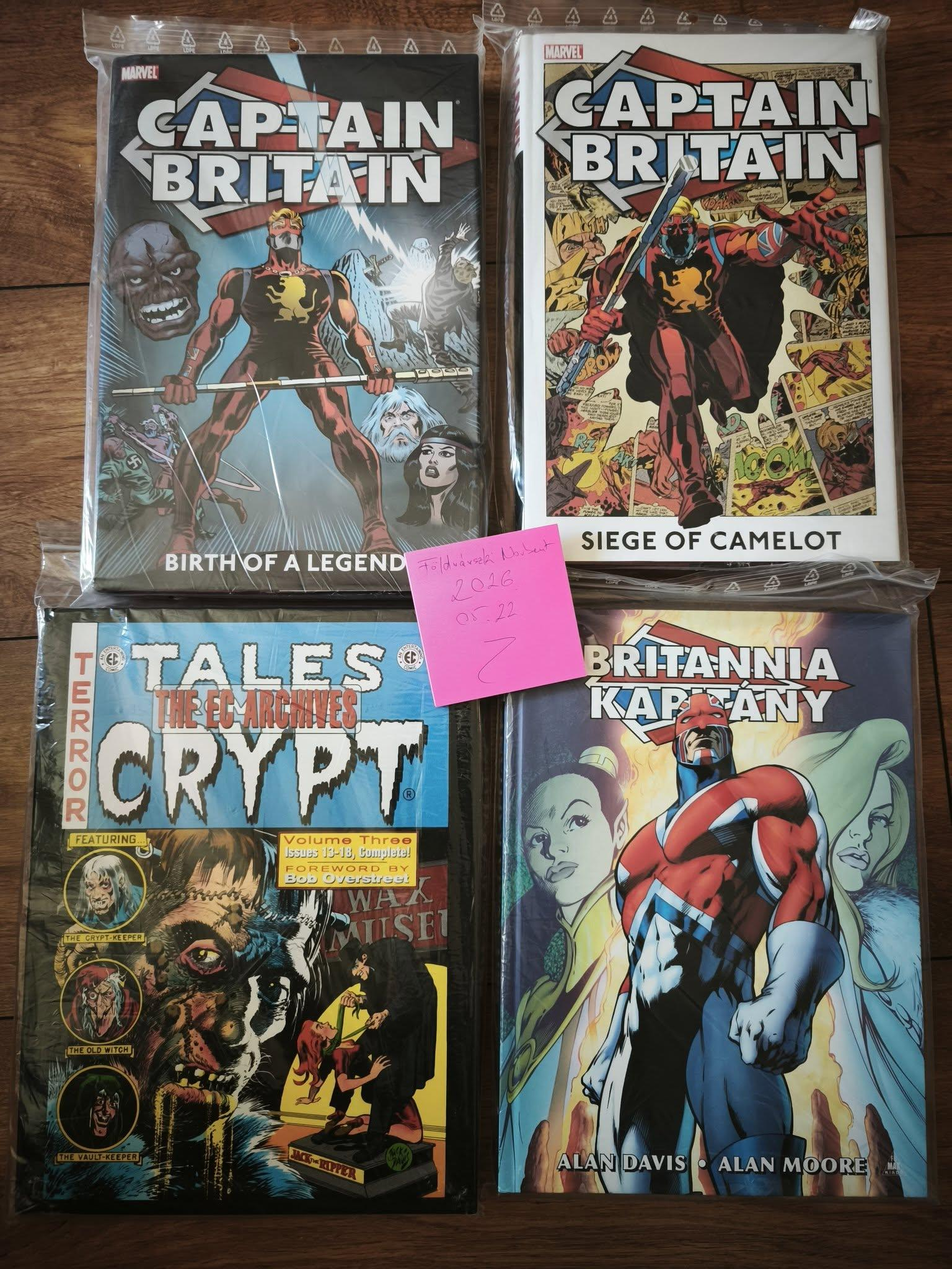comic: (15, 606, 481, 1213), (498, 594, 935, 1197), (85, 16, 489, 594), (506, 5, 901, 565)
